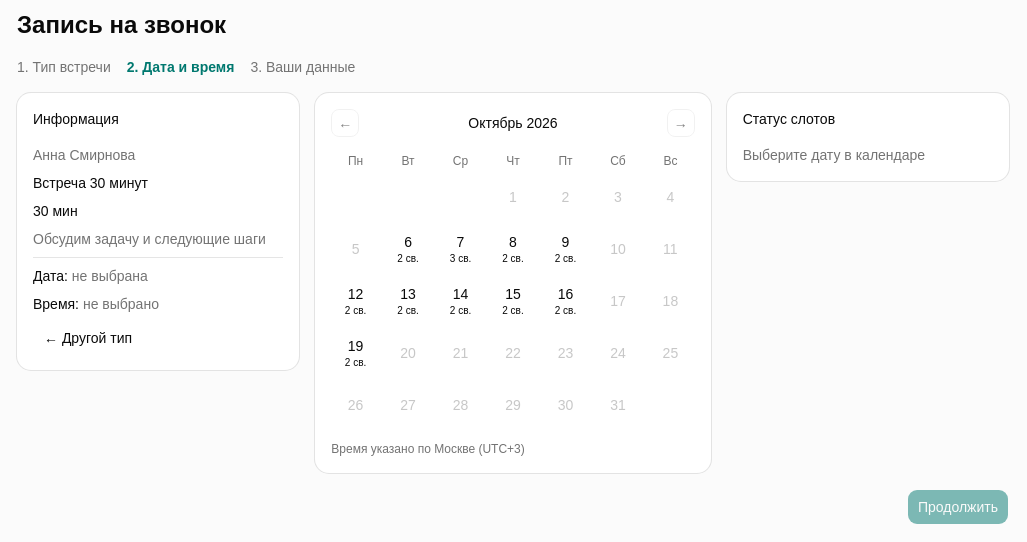
Scenario: подтверждение и создание Booking › «Продолжить» ведёт на подтверждение со сводкой выбора
Click the button "7 3 св.": click(461, 249) [436,225,485,273]
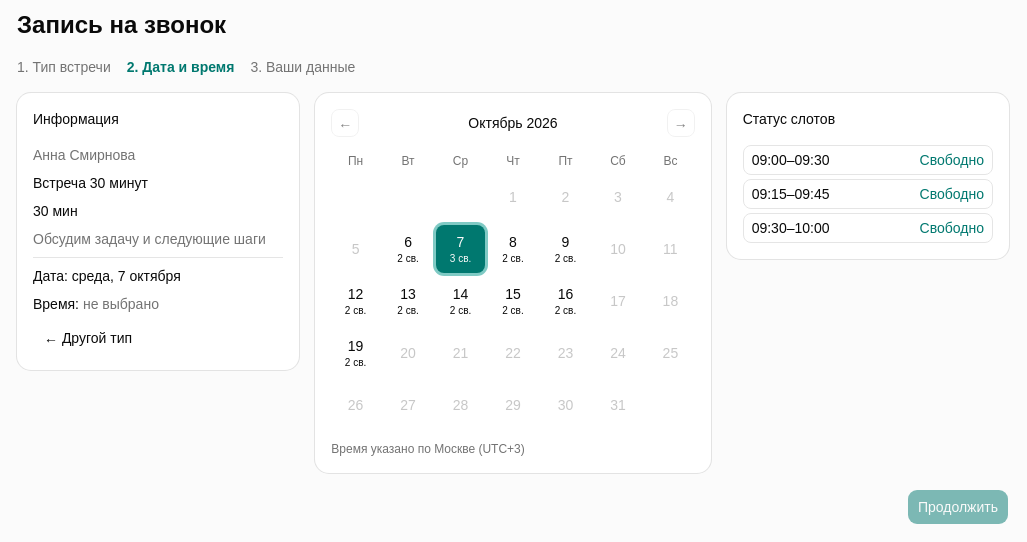
Click the button "09:30–10:00 Свободно": click(868, 228) [743,213,993,243]
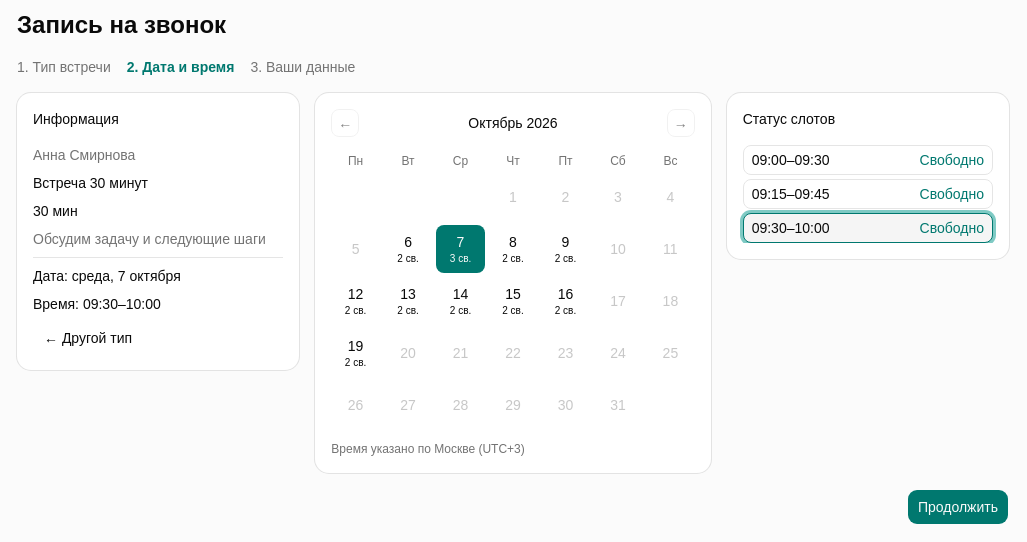
Click the button "Продолжить": click(958, 507) [907,489,1009,525]
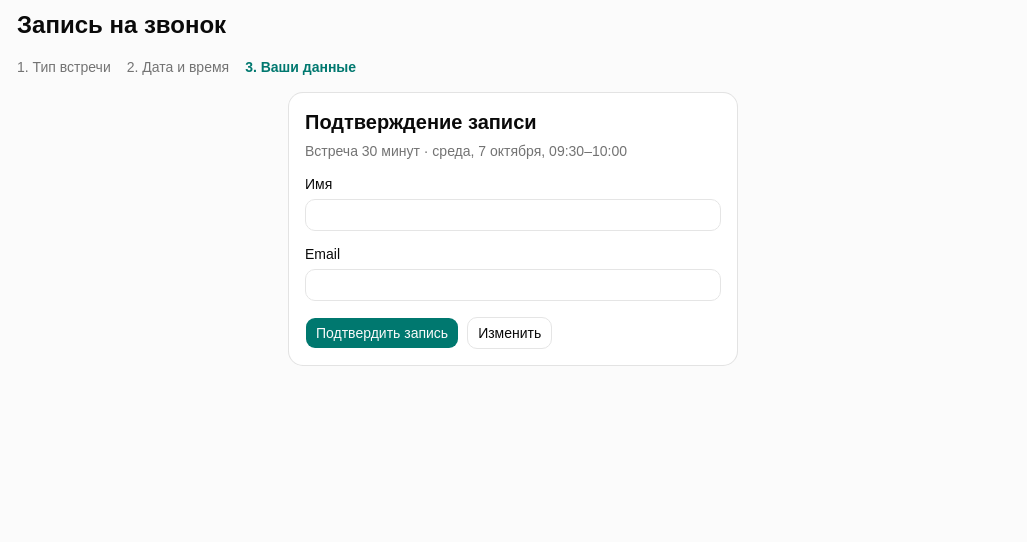
Now the element "Подтверждение записи" shows "Встреча 30 минут", box [305,142,420,158]
Now the element "Подтверждение записи" shows "среда, 7 октября", box [432,142,541,158]
Now the element "Подтверждение записи" shows "09:30–10:00", box [549,142,627,158]
